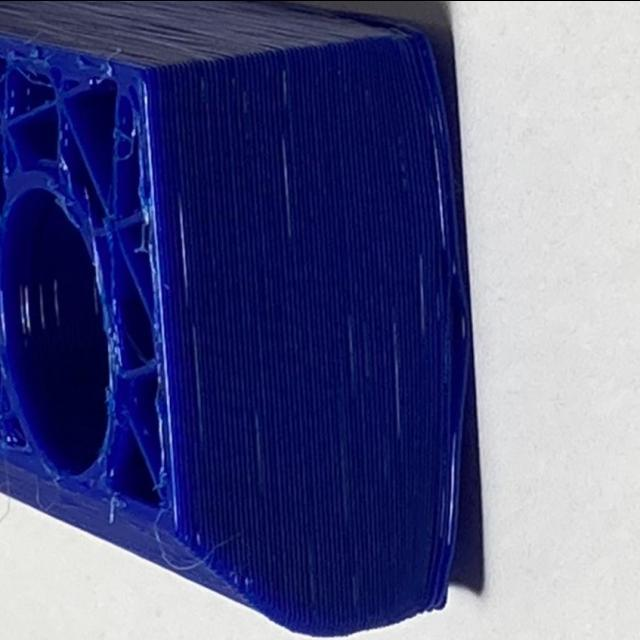Warping: (432, 506, 476, 610), (419, 27, 457, 98)
